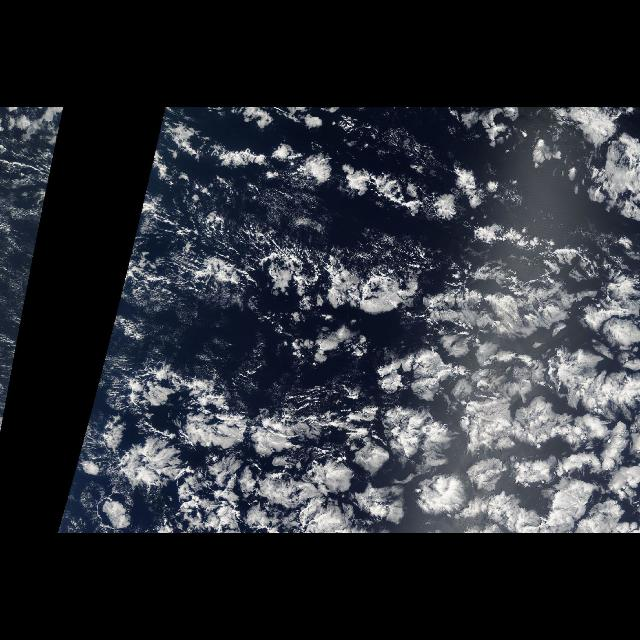Flower: (78, 108, 636, 532)
